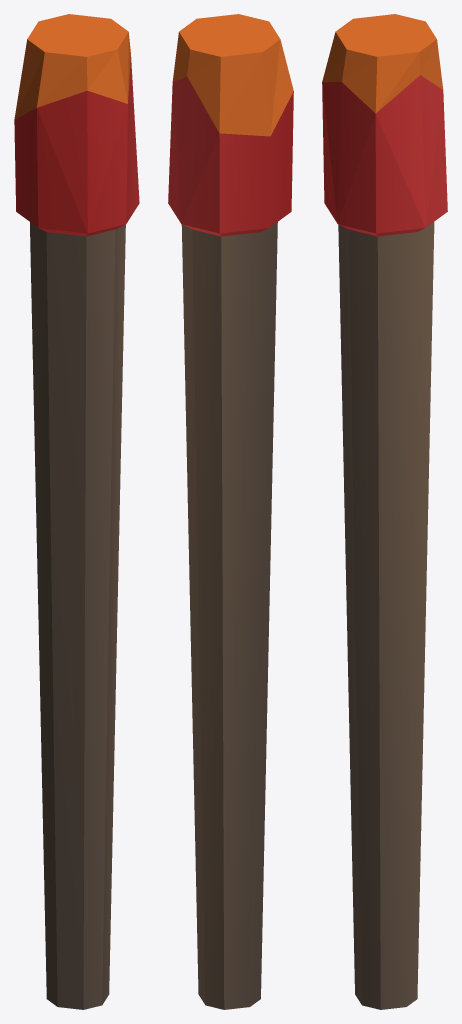
Rendered from Torch_01.FBX.
The picture shows the model from 3 angles, left to right: view 1: azimuth 30°, elevation 25°; view 2: azimuth 150°, elevation 25°; view 3: azimuth 330°, elevation 25°; orthographic projection.
Visible parts, largest first — view 1: Torch_01; view 2: Torch_01; view 3: Torch_01.
Part boxes in pixels (x1=…): Torch_01: x1=14, y1=14, x2=139, y2=1009; Torch_01: x1=168, y1=14, x2=293, y2=1009; Torch_01: x1=322, y1=14, x2=447, y2=1009.
Size of the model in its own units: 0.102 by 0.908 by 0.1035.
